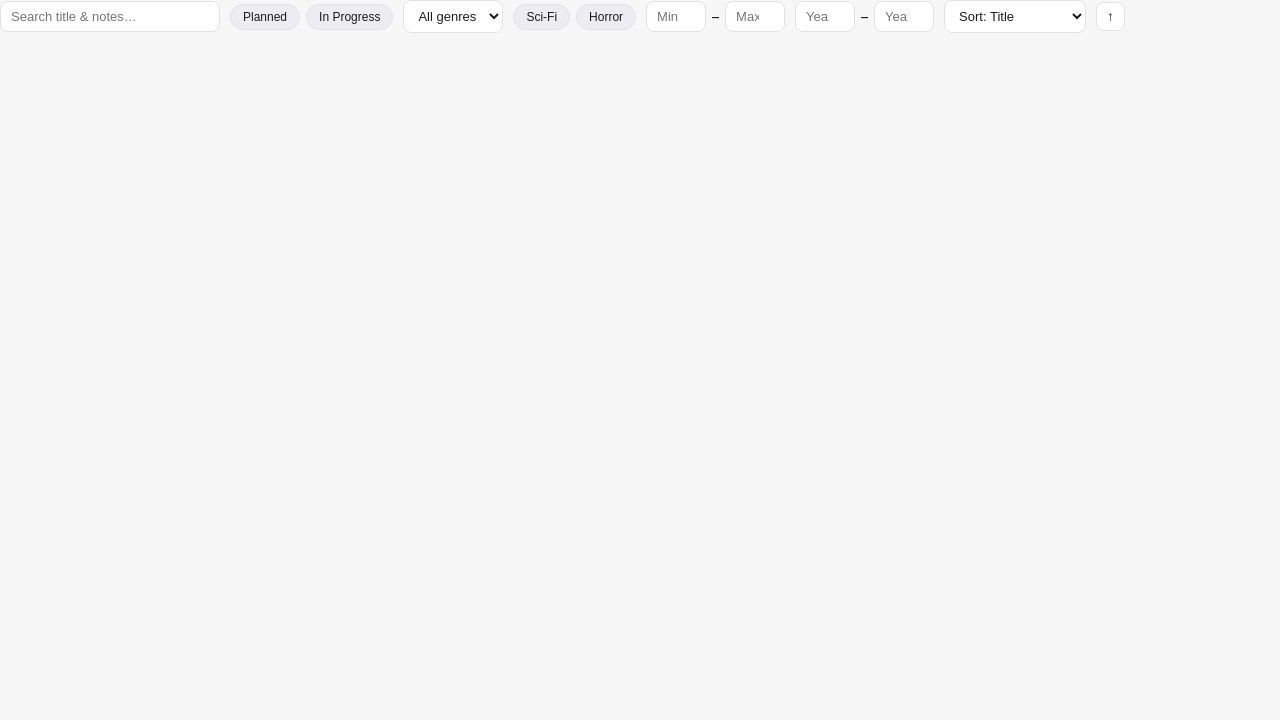
FilterSortBar - tag rename › shows the rejection inline and keeps the dialog open on a name collision
Right-click the button "Sci-Fi".
right_click(542, 16)  # box [513, 4, 570, 30]
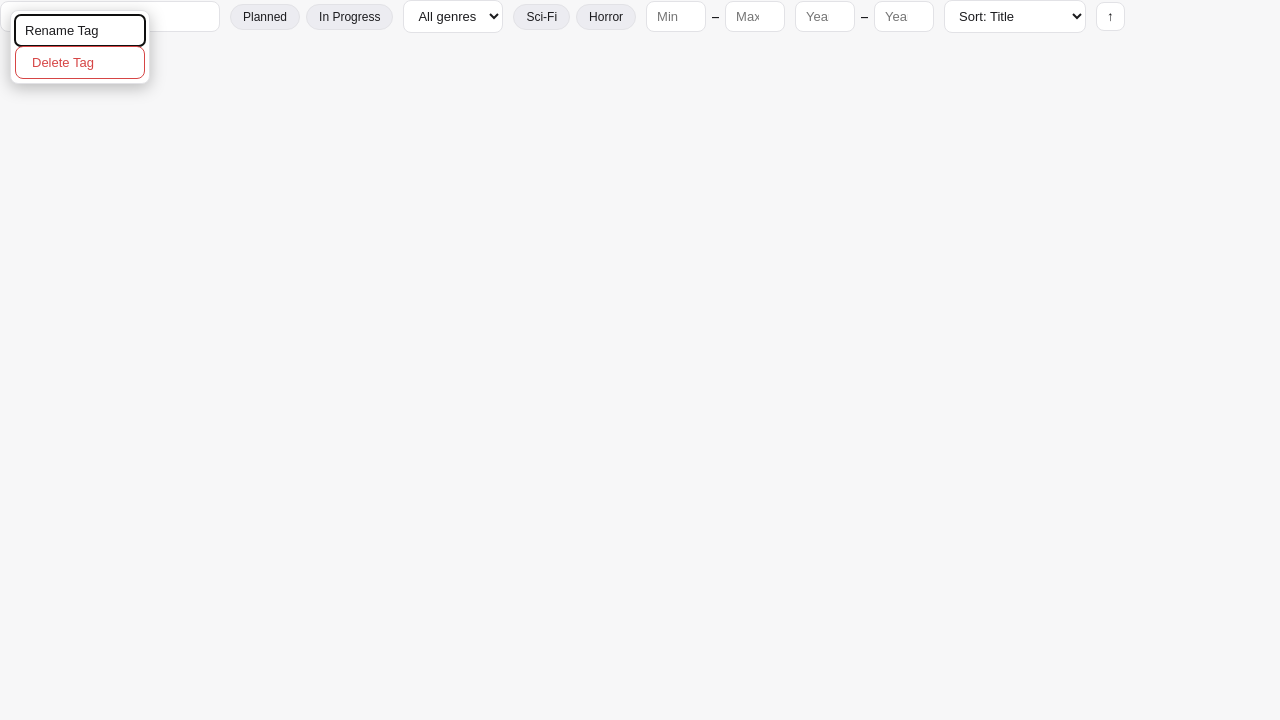
Click the button "Rename Tag".
click(80, 30)  # box [15, 15, 145, 46]
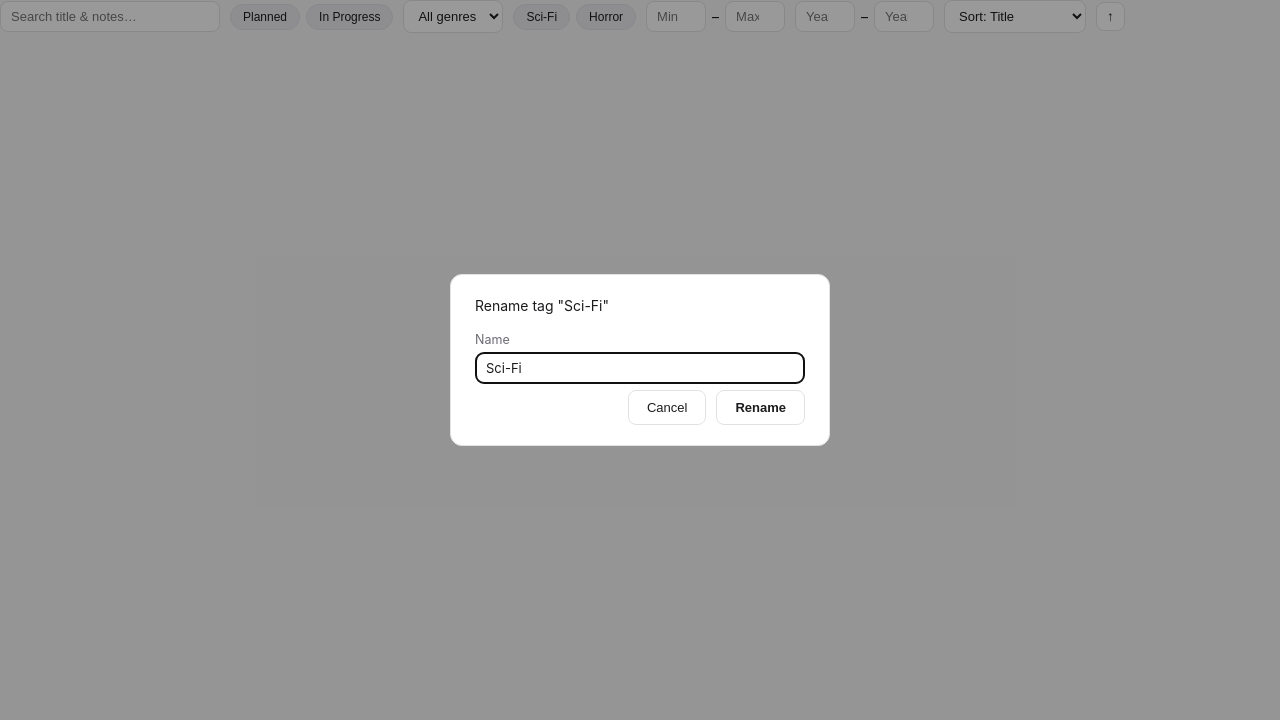
Replace the text in the field labelled "Name" with "Horror" at point(640, 368), box [475, 352, 805, 384]
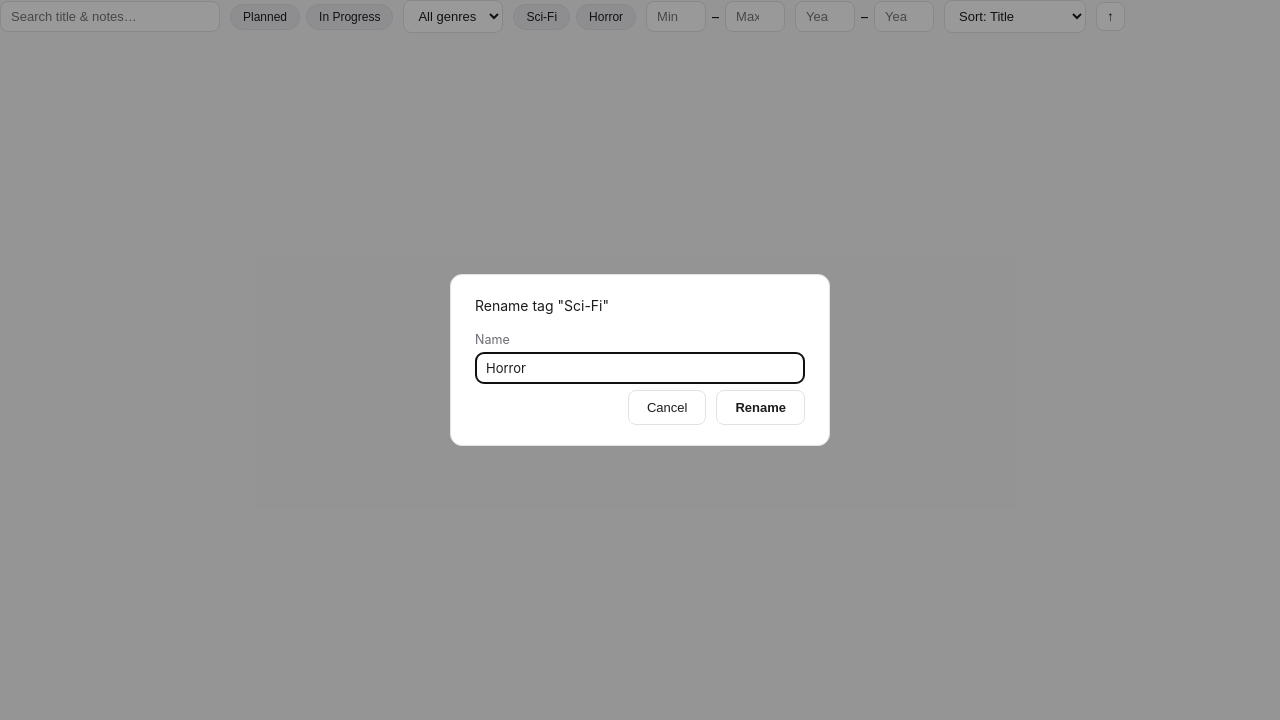
Click the button "Rename".
click(761, 408)  # box [716, 390, 805, 425]
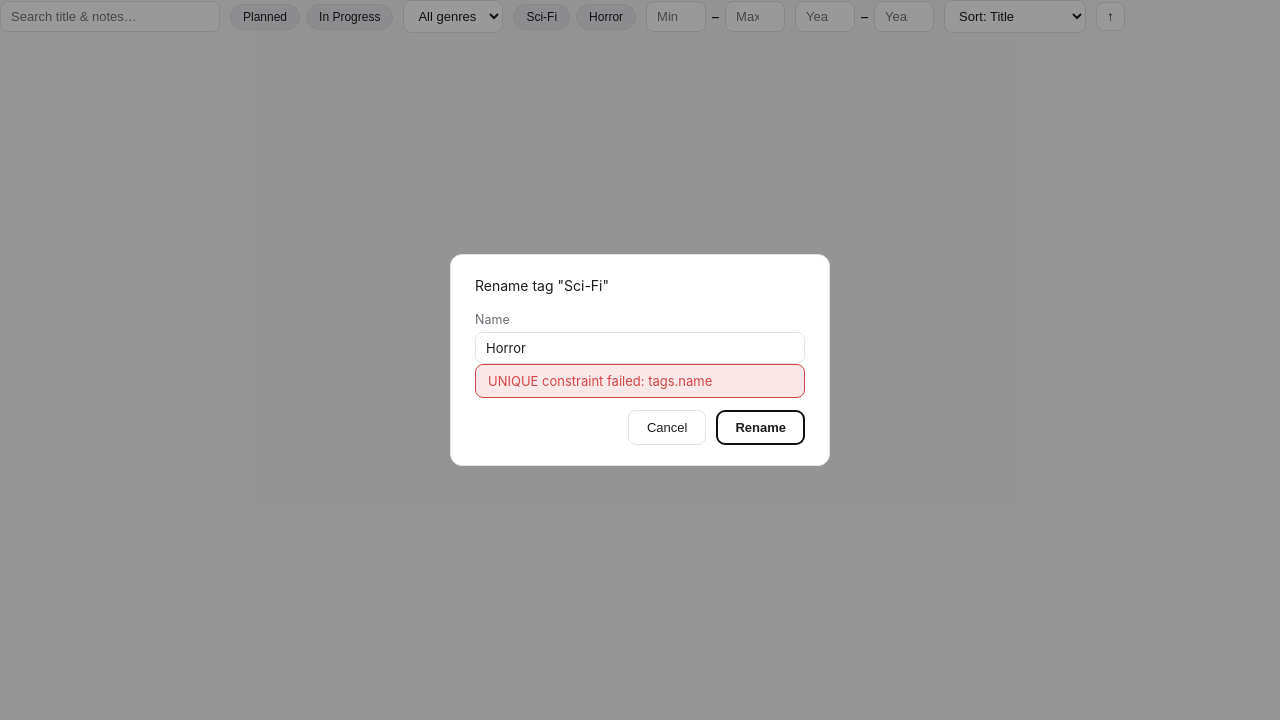
Result: the text "Rename tag \"Sci-Fi\"" is shown at [475, 277, 609, 294]
Result: the text "UNIQUE constraint failed: tags.name" is shown at [475, 364, 805, 398]
